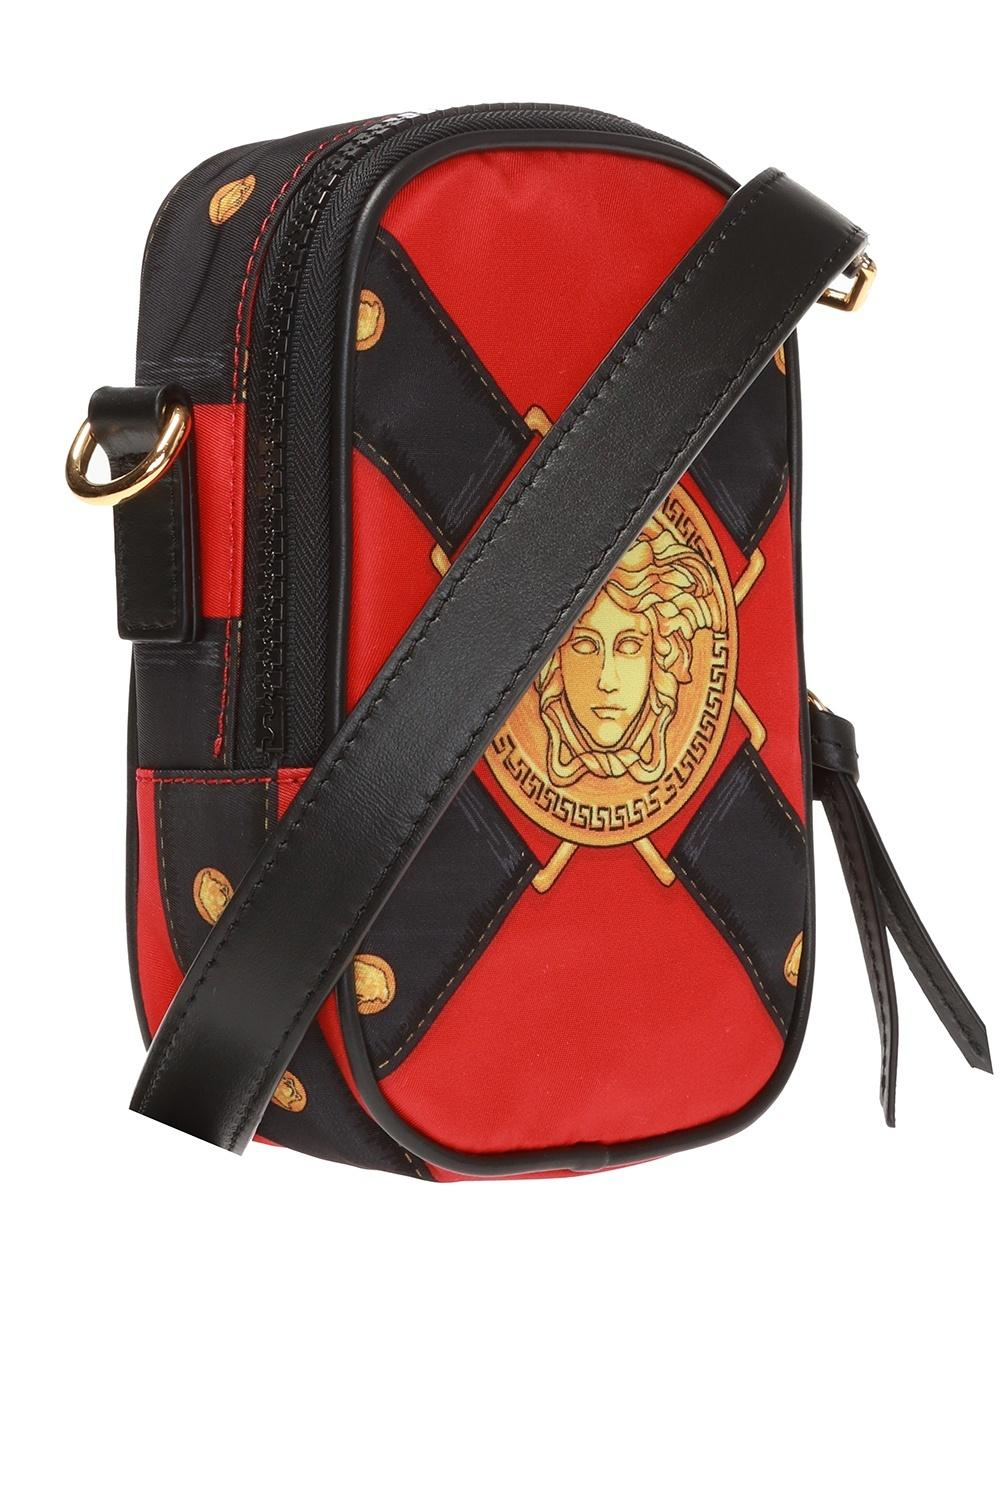VERSACE: (478, 480, 742, 850)
